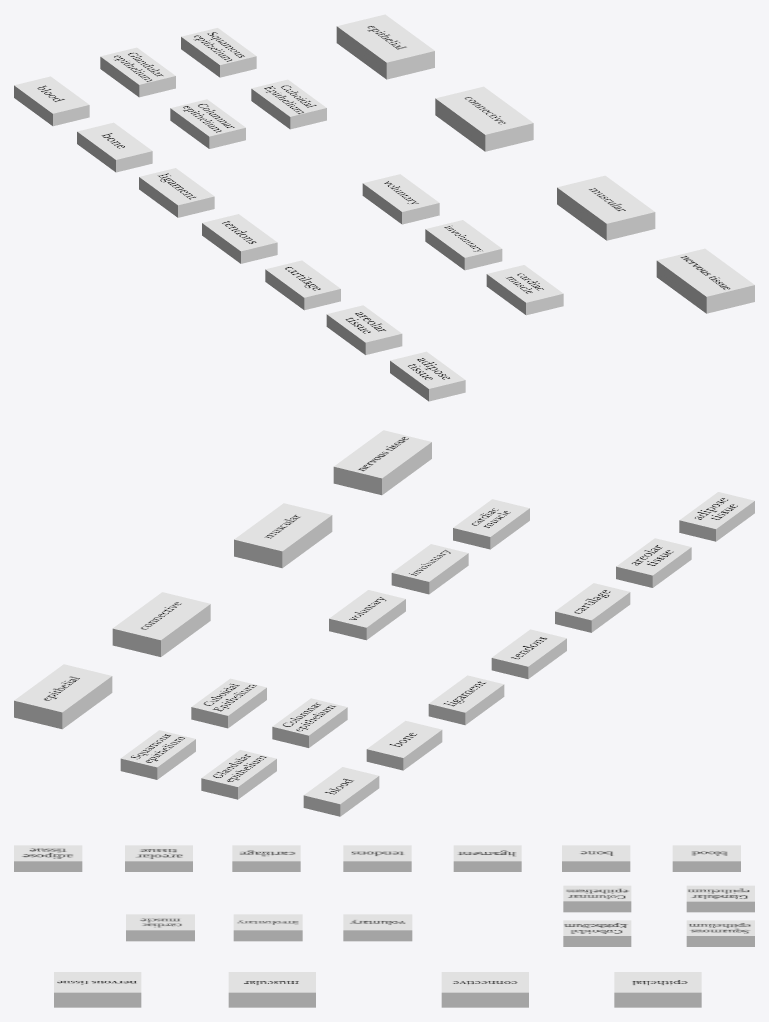
File: ANIMALS.fbx
3 renders of one model, top to bottom at view 1: azimuth 30°, elevation 25°; view 2: azimuth 150°, elevation 25°; view 3: azimuth 270°, elevation 25°, orthographic. The views are drawn at different scales.
Visible parts, largest first — view 1: pCube15, pCube14, pCube13, pCube16, pCube32, pCube31, pCube30, pCube2, pCube8, pCube9, pCube4, pCube1 (+6 smaller); view 2: pCube14, pCube13, pCube15, pCube16, pCube31, pCube32, pCube30, pCube7, pCube5, pCube6, pCube11, pCube8 (+6 smaller); view 3: pCube15, pCube14, pCube13, pCube16, pCube31, pCube30, pCube32, pCube8, pCube9, pCube5, pCube11, pCube3 (+6 smaller).
Boxes of the visible parts, x1,y1,x2,y2 form: pCube15: (557, 175, 655, 240); pCube14: (336, 14, 434, 79); pCube13: (435, 86, 533, 151); pCube16: (656, 248, 754, 313); pCube32: (486, 265, 563, 315); pCube31: (425, 220, 502, 270); pCube30: (362, 174, 439, 224); pCube2: (326, 305, 402, 354); pCube8: (170, 99, 245, 148); pCube9: (100, 47, 175, 97); pCube4: (202, 214, 277, 263); pCube1: (390, 351, 465, 401); pCube14: (14, 664, 112, 729); pCube13: (112, 592, 210, 656); pCube15: (234, 503, 332, 568); pCube16: (333, 430, 431, 495); pCube31: (391, 544, 468, 594); pCube32: (453, 499, 529, 549); pCube30: (329, 590, 405, 640); pCube7: (303, 767, 379, 816); pCube5: (428, 675, 504, 725); pCube6: (366, 720, 442, 770); pCube11: (191, 678, 266, 728); pCube8: (272, 698, 347, 747); pCube15: (228, 972, 315, 1007); pCube14: (614, 972, 701, 1007); pCube13: (441, 972, 528, 1007); pCube16: (54, 972, 141, 1007); pCube31: (233, 914, 302, 941); pCube30: (343, 914, 412, 941); pCube32: (126, 914, 194, 941); pCube8: (563, 885, 631, 912); pCube9: (686, 885, 754, 912); pCube5: (453, 845, 521, 871); pCube11: (563, 920, 631, 946); pCube3: (232, 845, 300, 871).
Bounding box in the file's own units: 96.84 × 4.49 × 203.
1 material, 1 textured.
